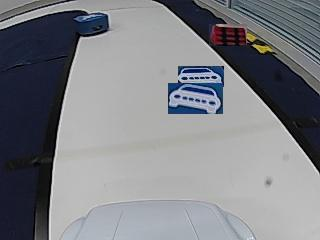prop: (75, 14, 109, 36)
